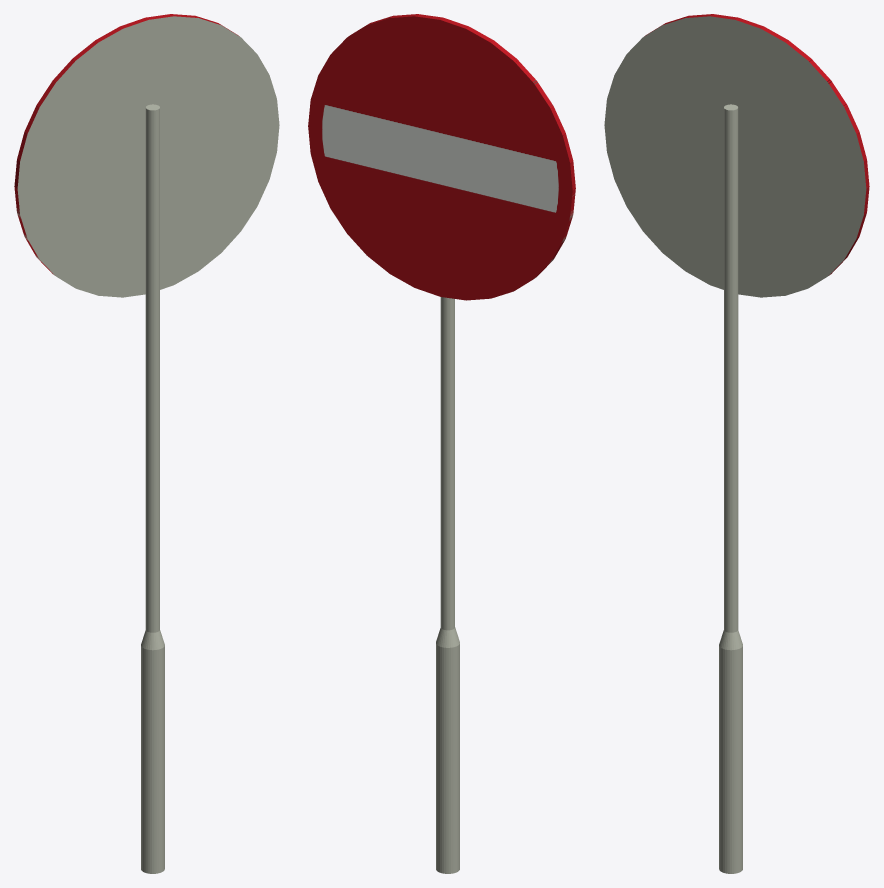
Rendered from stopsign.fbx.
3 views of the same model, side by side, from view 1: azimuth 30°, elevation 25°; view 2: azimuth 150°, elevation 25°; view 3: azimuth 330°, elevation 25° (orthographic).
Parts seen in each view (by area): view 1: Circle, Cylinder; view 2: Circle, Cylinder; view 3: Circle, Cylinder.
Part boxes in pixels (x1,y1,x2,y2): Circle: (14, 14, 279, 297); Cylinder: (141, 104, 164, 873); Circle: (308, 14, 575, 300); Cylinder: (436, 297, 459, 873); Circle: (604, 14, 869, 297); Cylinder: (719, 104, 742, 873).
Bounding box in the file's own units: 126 × 389 × 11.25.
